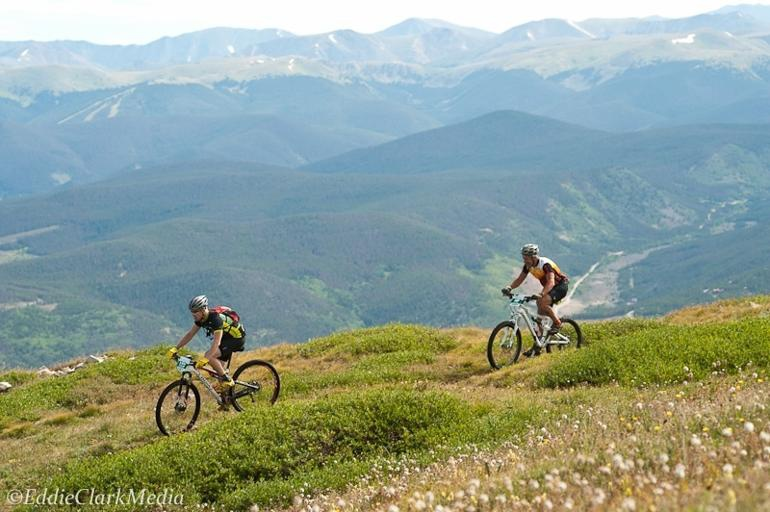non-vehicle: (153, 348, 282, 437), (485, 288, 582, 371)
